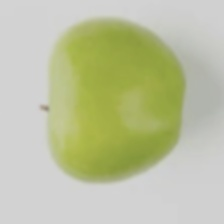apple: (19, 22, 176, 197)
